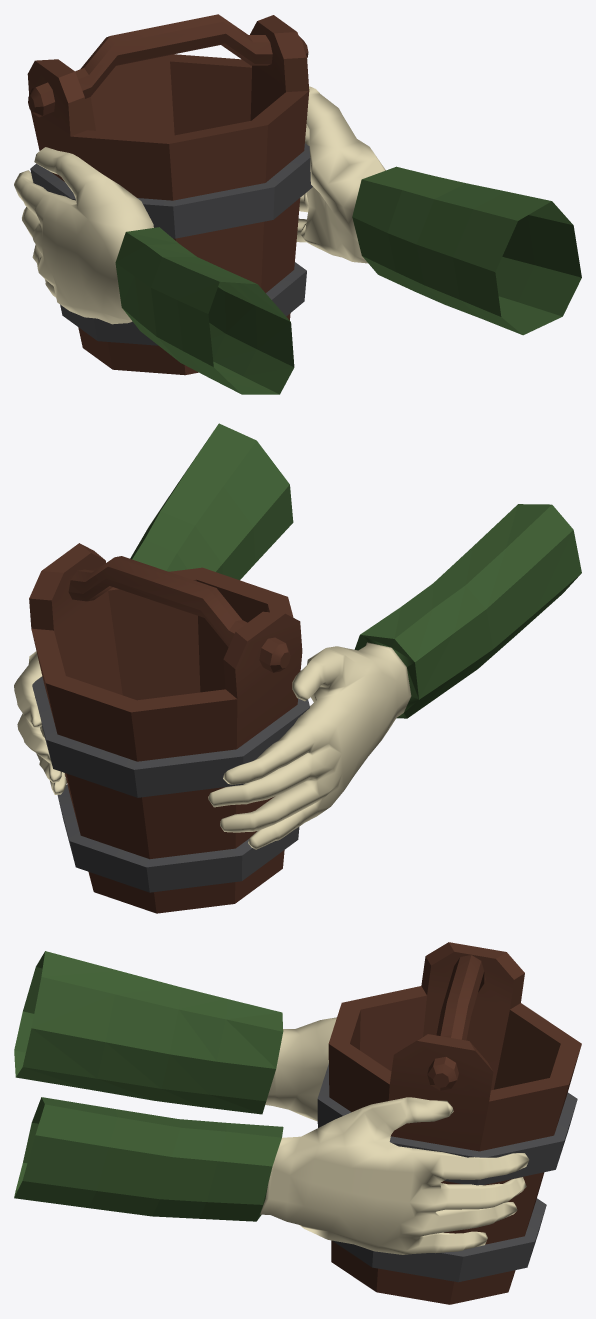
Rendered from EquipedEmptyBucket.fbx.
3 renders of one model, top to bottom at view 1: azimuth 30°, elevation 25°; view 2: azimuth 150°, elevation 25°; view 3: azimuth 270°, elevation 25°, orthographic. The views are drawn at different scales.
Parts seen in each view (by area): view 1: EquipedEmptyBucket; view 2: EquipedEmptyBucket; view 3: EquipedEmptyBucket.
Boxes of the visible parts, left/top/right/bottom form: EquipedEmptyBucket: left=14, top=14, right=581, bottom=394; EquipedEmptyBucket: left=14, top=423, right=581, bottom=913; EquipedEmptyBucket: left=14, top=942, right=581, bottom=1304.
Size of the model in its own units: 1.38 by 1.13 by 1.95.
Materials: 3 (3 with a texture image).
